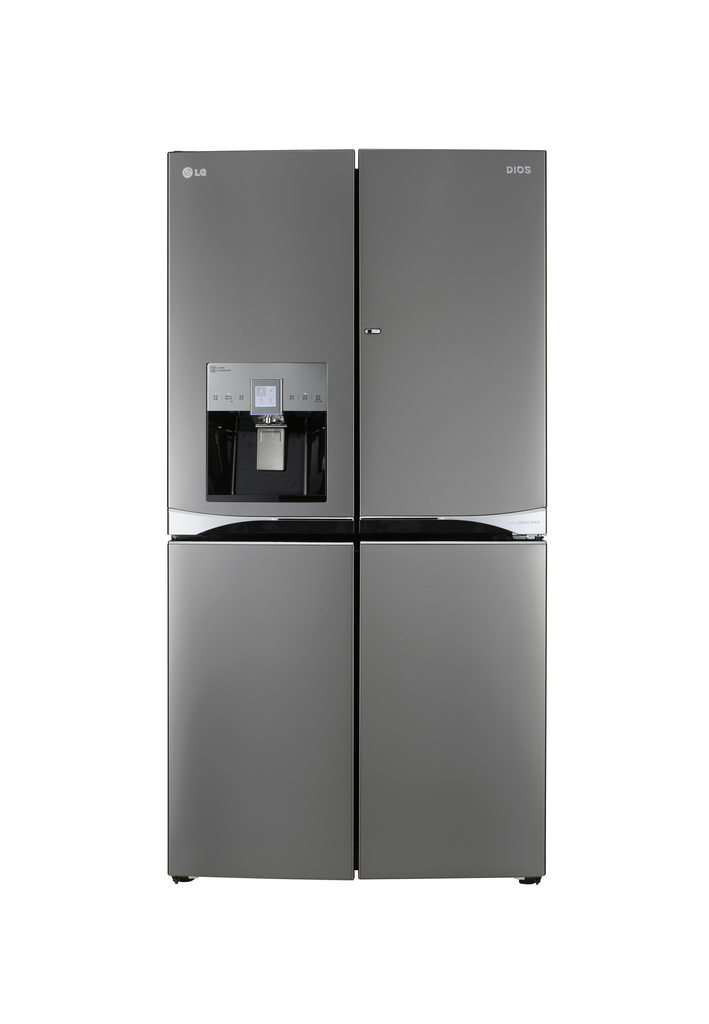handle: (213, 508, 351, 558), (360, 513, 530, 552)
refrigerator door: (170, 164, 348, 529), (369, 162, 538, 535), (168, 529, 354, 860), (363, 543, 540, 863)
